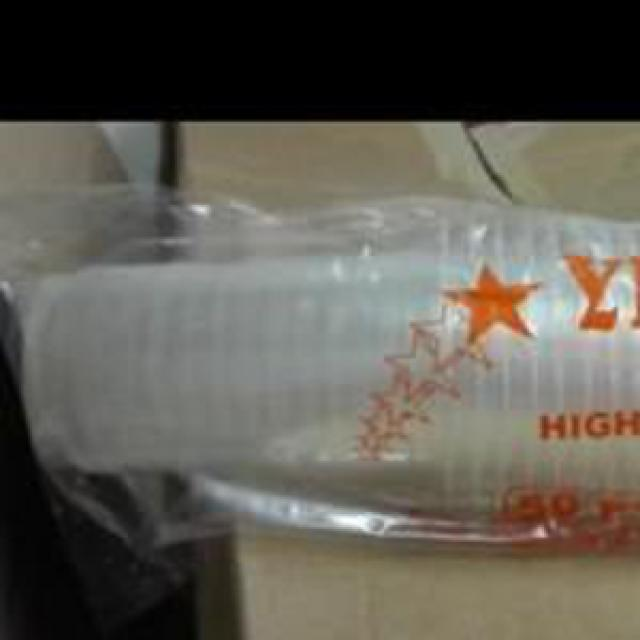plastic cup: (21, 207, 640, 535)
